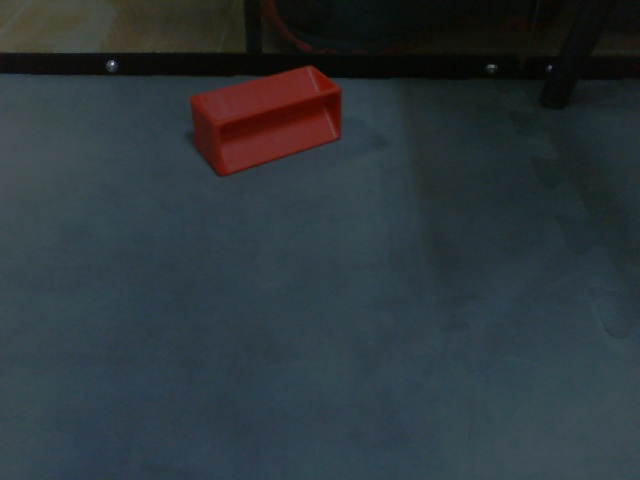RedSample: (188, 65, 344, 178)
